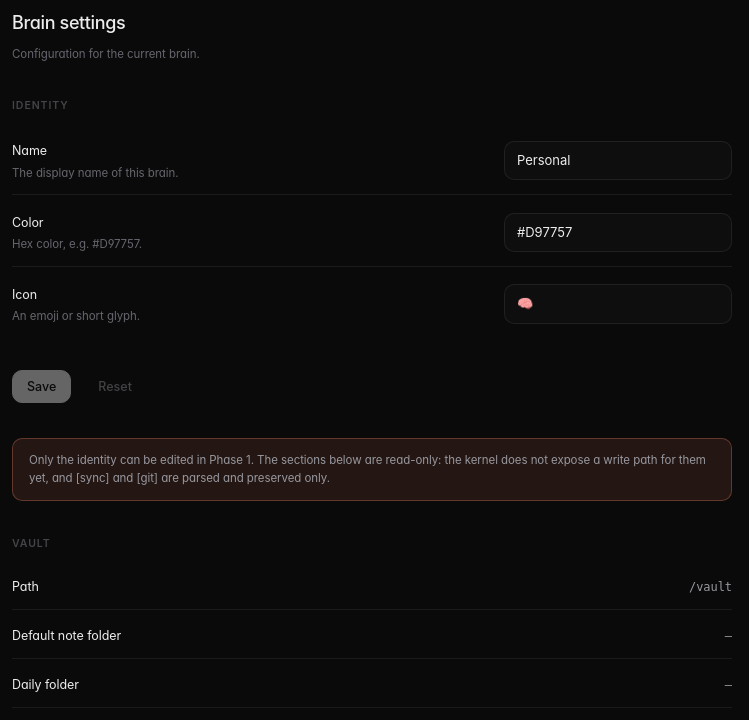
Test case: BrainSettings › resets the draft back to the loaded values
Replace the text in the field labelled "Name" with "Work": point(618, 161) x1=504 y1=141 x2=732 y2=180
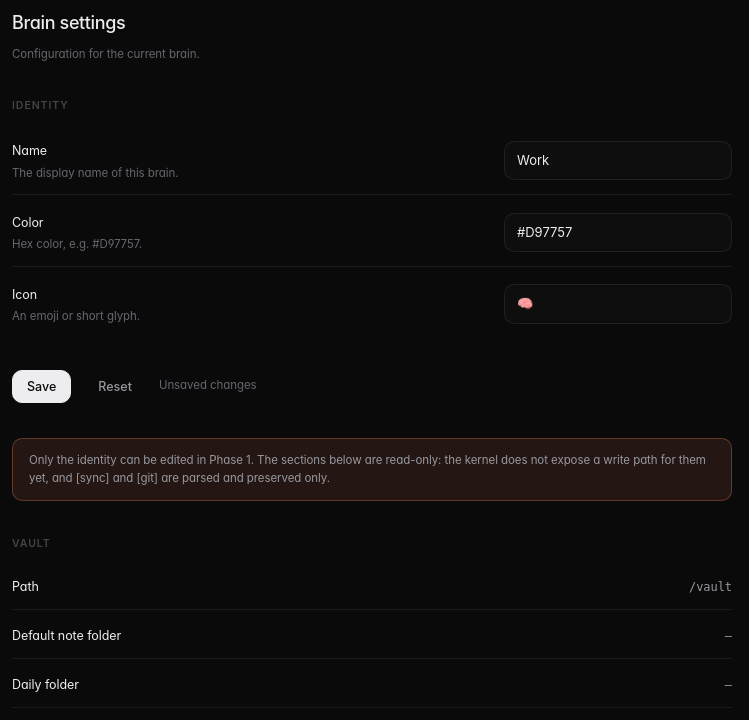
Click the button "Reset": point(115, 386) x1=83 y1=370 x2=147 y2=403
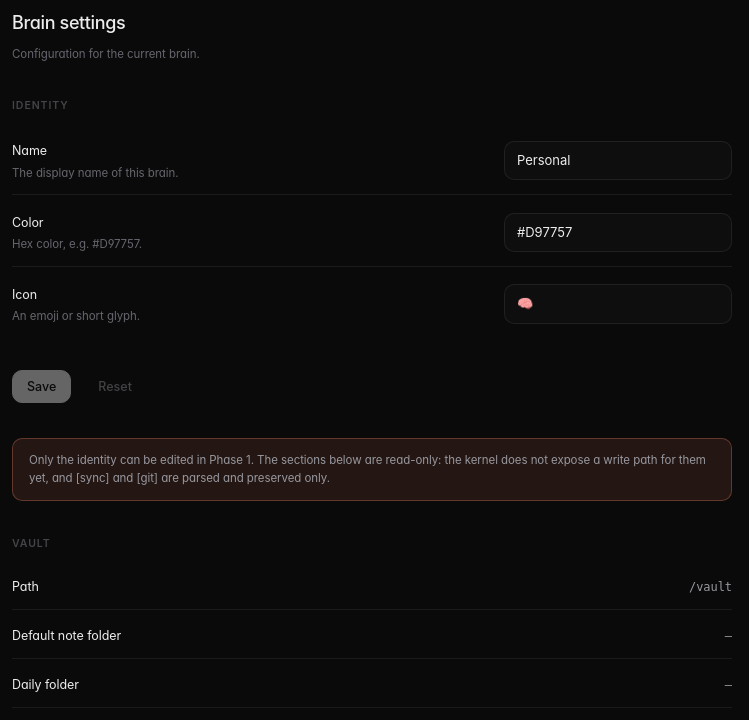
Result: the field labelled "Name" holds "Personal" at x1=504 y1=141 x2=732 y2=180
Result: the button "Save" is disabled at x1=12 y1=370 x2=71 y2=403
